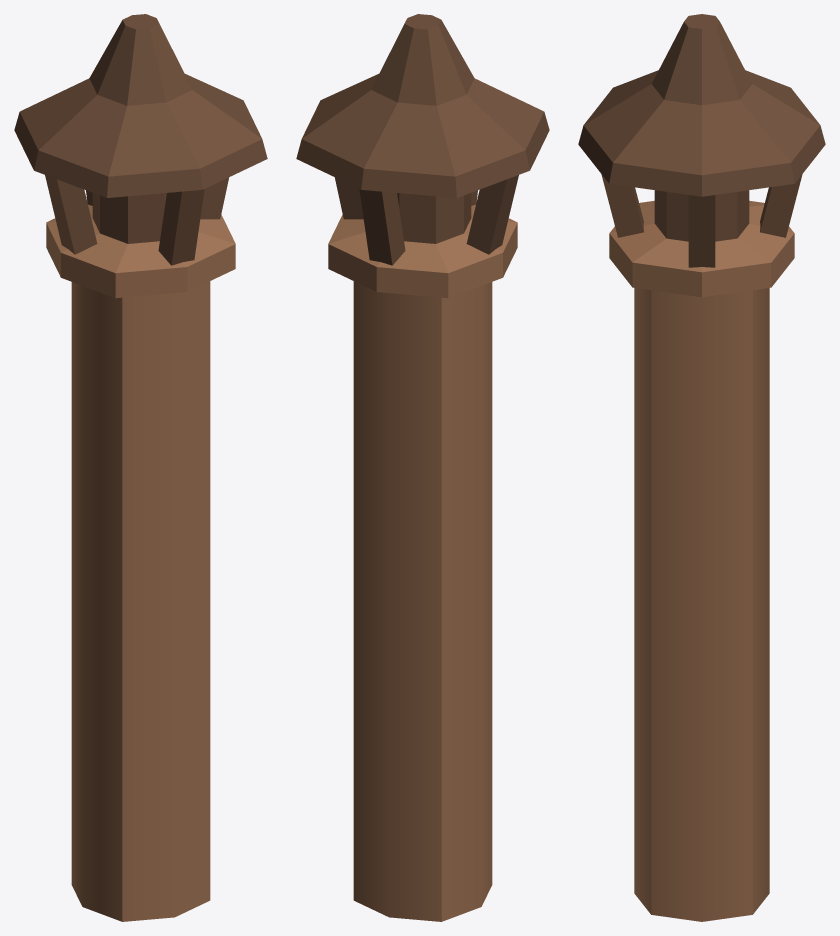
The model's file is SM_Prop_Chimney_01.glb.
The picture shows the model from 3 angles, left to right: view 1: azimuth 30°, elevation 25°; view 2: azimuth 150°, elevation 25°; view 3: azimuth 270°, elevation 25°; orthographic projection.
Parts seen in each view (by area): view 1: SM_Prop_Chimney_01; view 2: SM_Prop_Chimney_01; view 3: SM_Prop_Chimney_01.
Part boxes in pixels (bbox=[...]): SM_Prop_Chimney_01: bbox=[14, 14, 267, 921]; SM_Prop_Chimney_01: bbox=[296, 14, 549, 921]; SM_Prop_Chimney_01: bbox=[578, 14, 825, 921].
Size of the model in its own units: 0.00433 by 0.0168 by 0.00433.
Materials: 1 (1 with a texture image).
